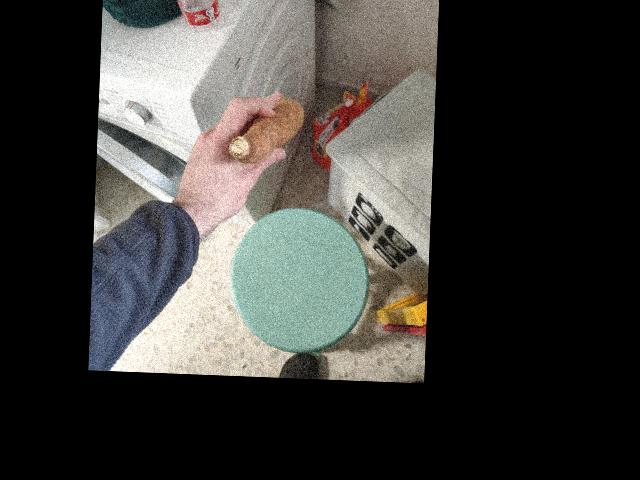sweet_potato: (220, 87, 302, 174)
